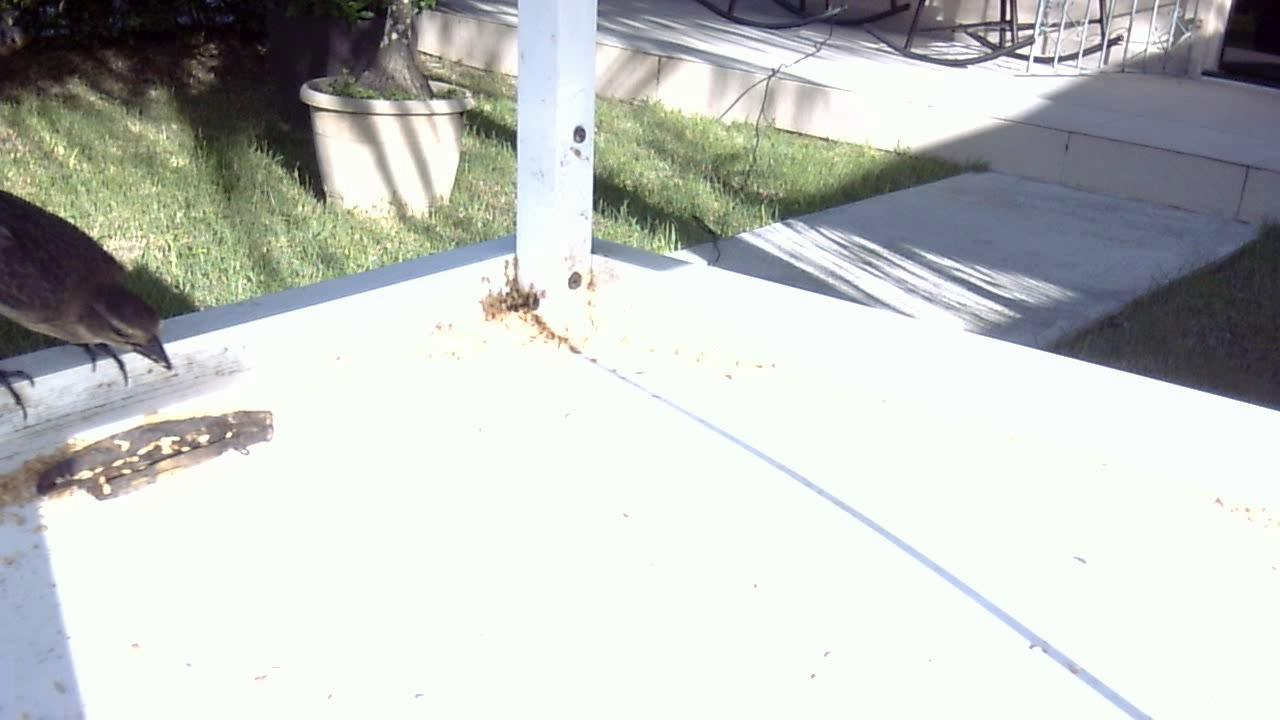chupim: (1, 185, 190, 433)
